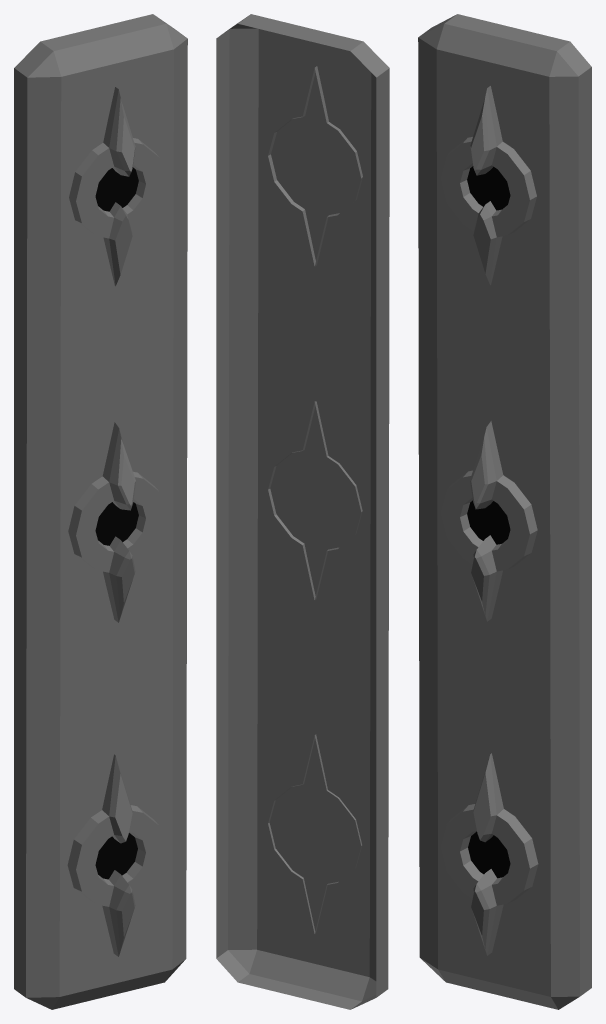
File: SMLProjectileStoneTrap.fbx
3 renders of one model, left to right at view 1: azimuth 30°, elevation 25°; view 2: azimuth 150°, elevation 25°; view 3: azimuth 330°, elevation 25°, orthographic.
Visible parts, largest first — view 1: SMLProjectileStoneTrap; view 2: SMLProjectileStoneTrap; view 3: SMLProjectileStoneTrap.
Boxes of the visible parts, x1,y1,x2,y2 form: SMLProjectileStoneTrap: (14,14,187,1009); SMLProjectileStoneTrap: (216,14,389,1009); SMLProjectileStoneTrap: (418,14,591,1009).
Bounding box in the file's own units: 15.07 × 86.17 × 6.
